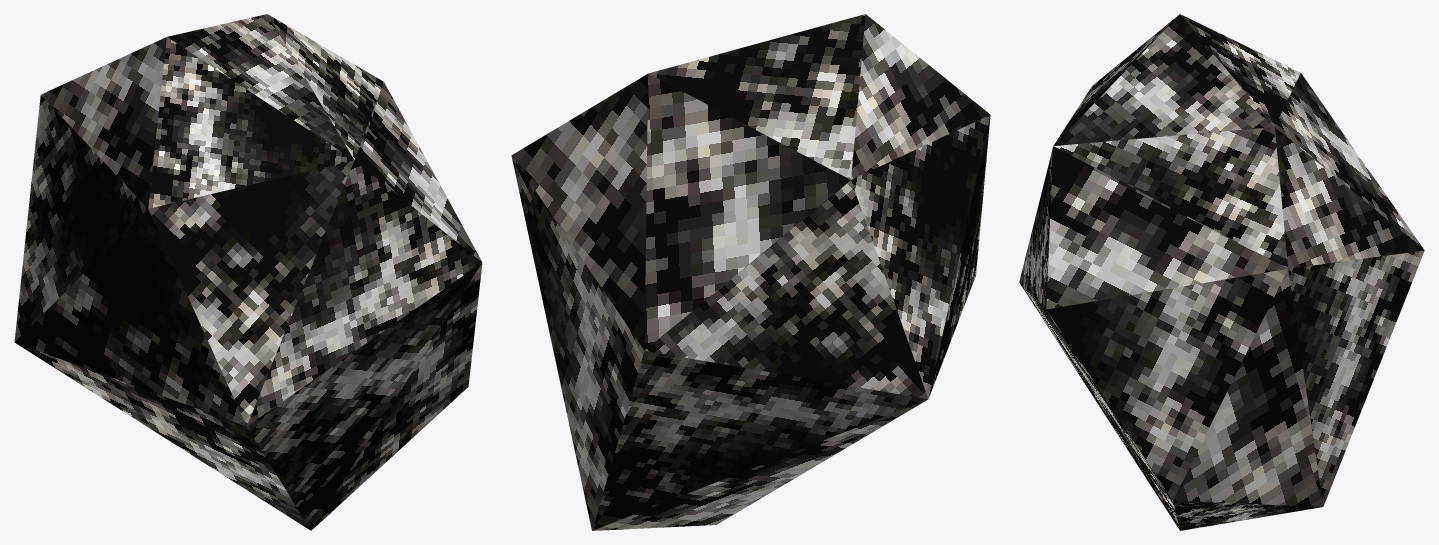
File: medium_grey_asteroid.fbx
The picture shows the model from 3 angles, left to right: view 1: azimuth 30°, elevation 25°; view 2: azimuth 150°, elevation 25°; view 3: azimuth 270°, elevation 25°; orthographic projection. The views are drawn at different scales.
Parts seen in each view (by area): view 1: medium_grey_asteroid; view 2: medium_grey_asteroid; view 3: medium_grey_asteroid.
Boxes of the visible parts, box(x1,y1,x2,y2) form: medium_grey_asteroid: box(14, 14, 482, 530); medium_grey_asteroid: box(511, 14, 990, 530); medium_grey_asteroid: box(1019, 14, 1424, 530).
Bounding box in the file's own units: 20546 × 25714 × 20713.
1 material, 1 textured.
